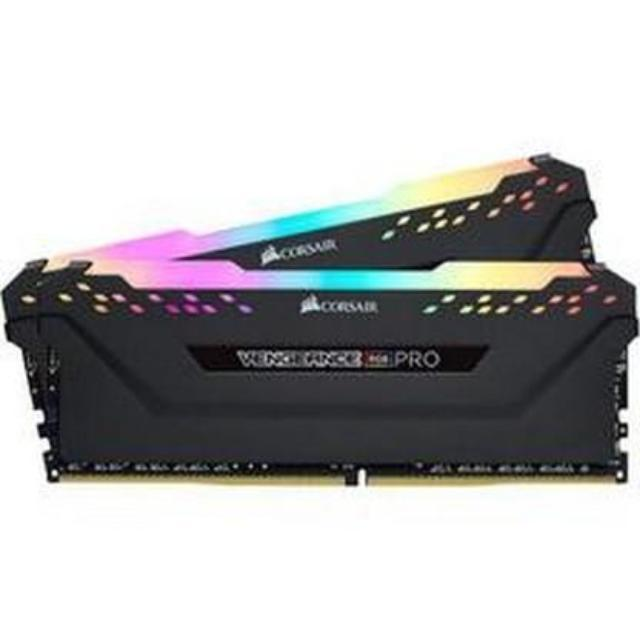RAM: (9, 144, 640, 487)
